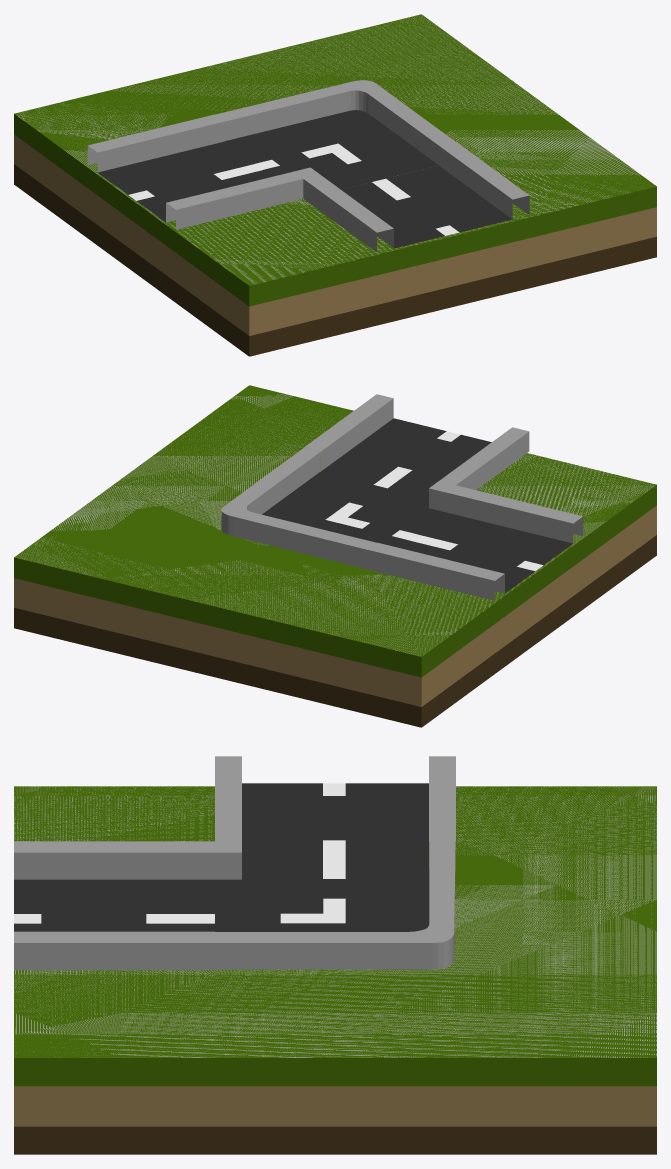
The model's file is rotation road.fbx.
3 views of the same model, one above another, from view 1: azimuth 30°, elevation 25°; view 2: azimuth 150°, elevation 25°; view 3: azimuth 270°, elevation 25° (orthographic). The views are drawn at different scales.
Visible parts, largest first — view 1: Cube.444; view 2: Cube.444; view 3: Cube.444.
Boxes of the visible parts, bbox=[...] form: Cube.444: bbox=[14, 14, 656, 356]; Cube.444: bbox=[14, 385, 656, 727]; Cube.444: bbox=[14, 756, 656, 1154].
Size of the model in its own units: 200 by 43.48 by 200.
